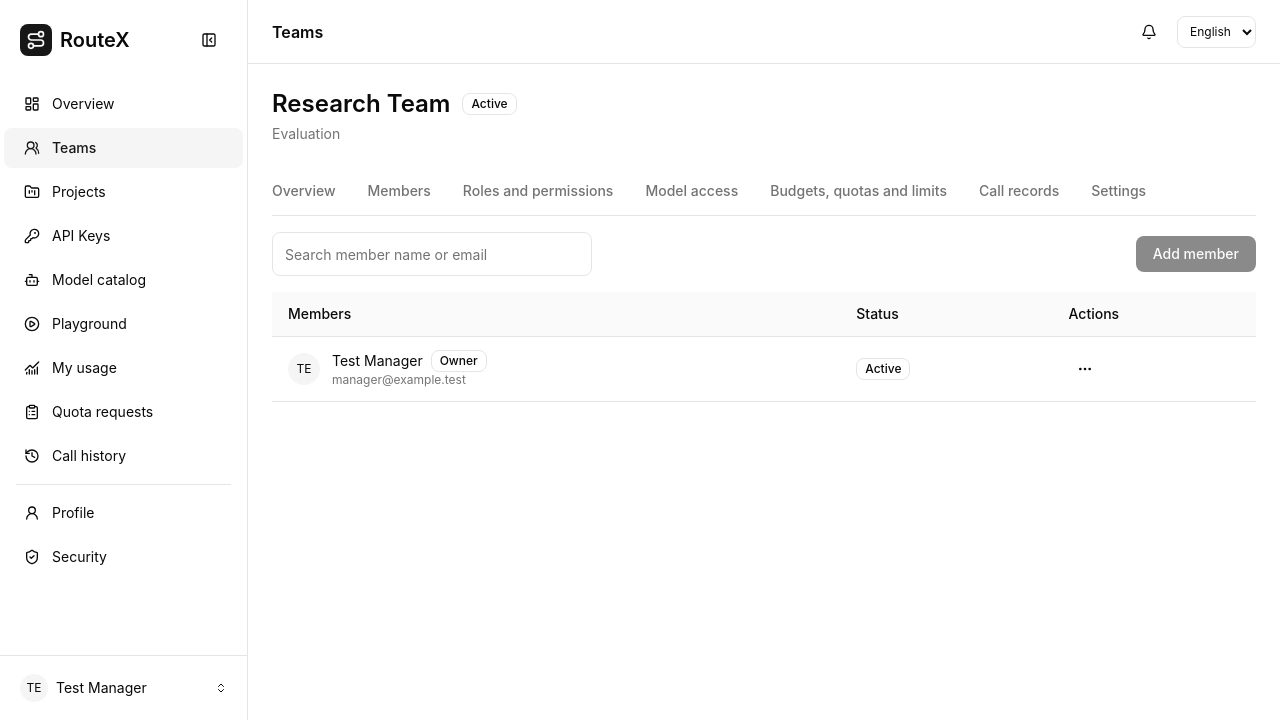
Team and Project resource workflows › lets the current owner inspect an exact member policy from the existing menu
Click the button named "More actions for Test Manager" at x=1154, y=369, box x1=1068 y1=349 x2=1240 y2=389
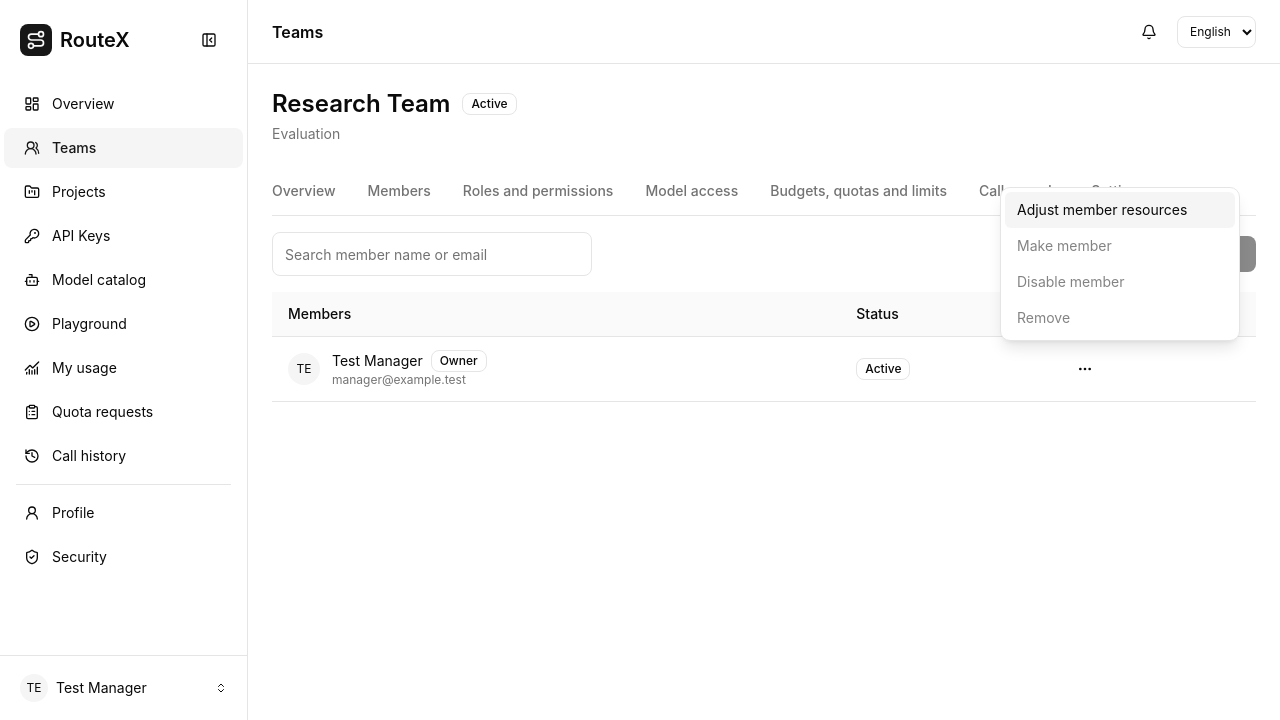
Check: the text "Adjust member resources" is shown
Check: the menu item "Adjust member resources" is shown
Click the menu item "Adjust member resources" at x=1120, y=210, box x1=1005 y1=192 x2=1235 y2=228
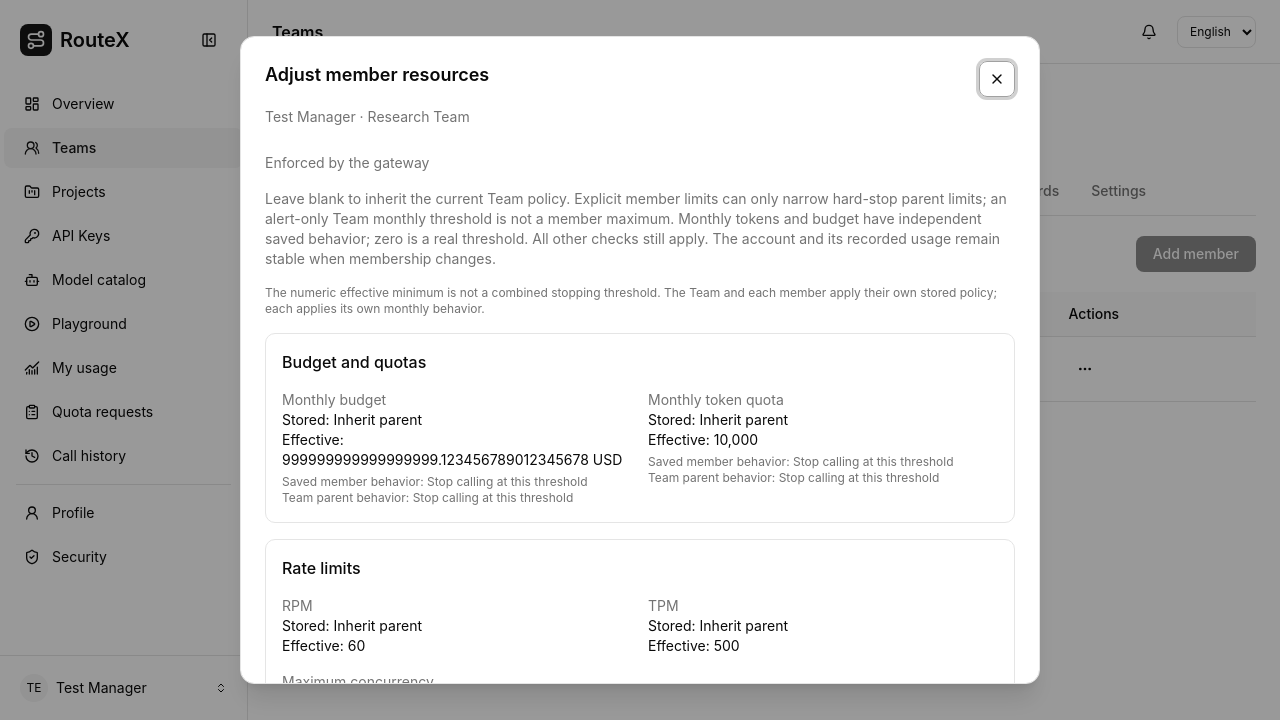
Check: the text "Inherit parent" is shown, box x1=334 y1=411 x2=422 y2=428
